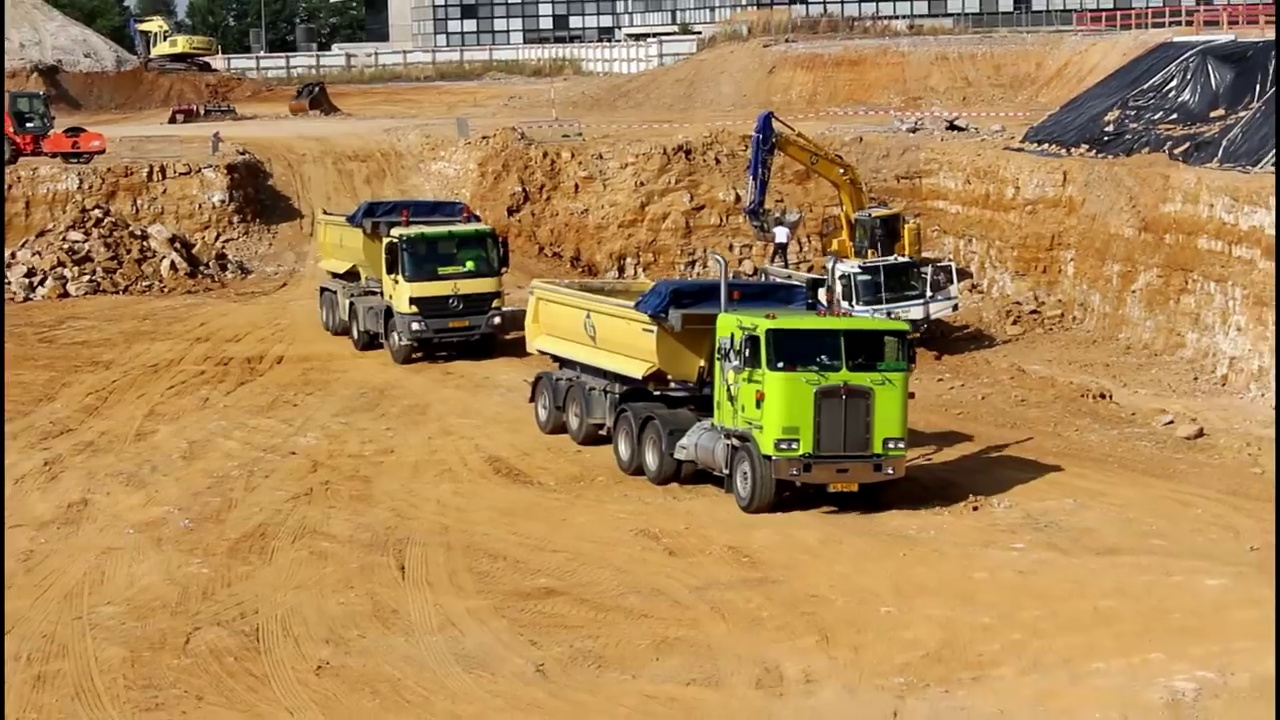compactor: (3, 89, 109, 169)
excavator: (741, 105, 940, 313), (129, 9, 220, 79)
truck: (523, 252, 916, 517), (307, 192, 513, 368), (757, 245, 965, 357)
worker: (768, 210, 796, 272)
